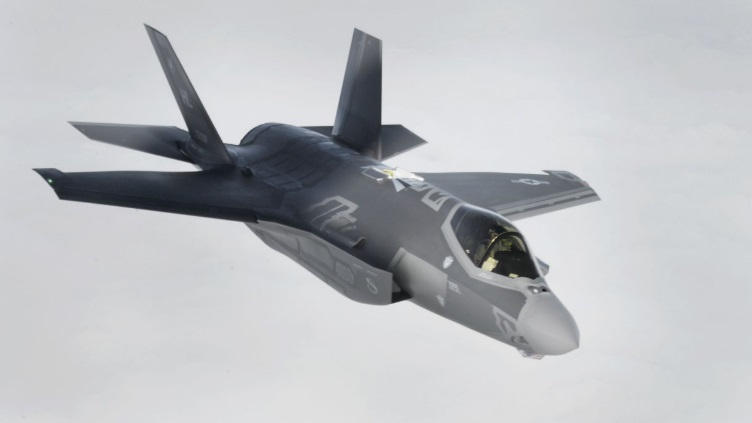F-35 Lightning: (32, 1, 621, 380)
